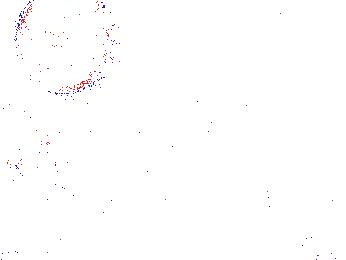moon jellyfish: (16, 1, 111, 95), (78, 4, 170, 59), (23, 72, 109, 128), (4, 133, 63, 211)
